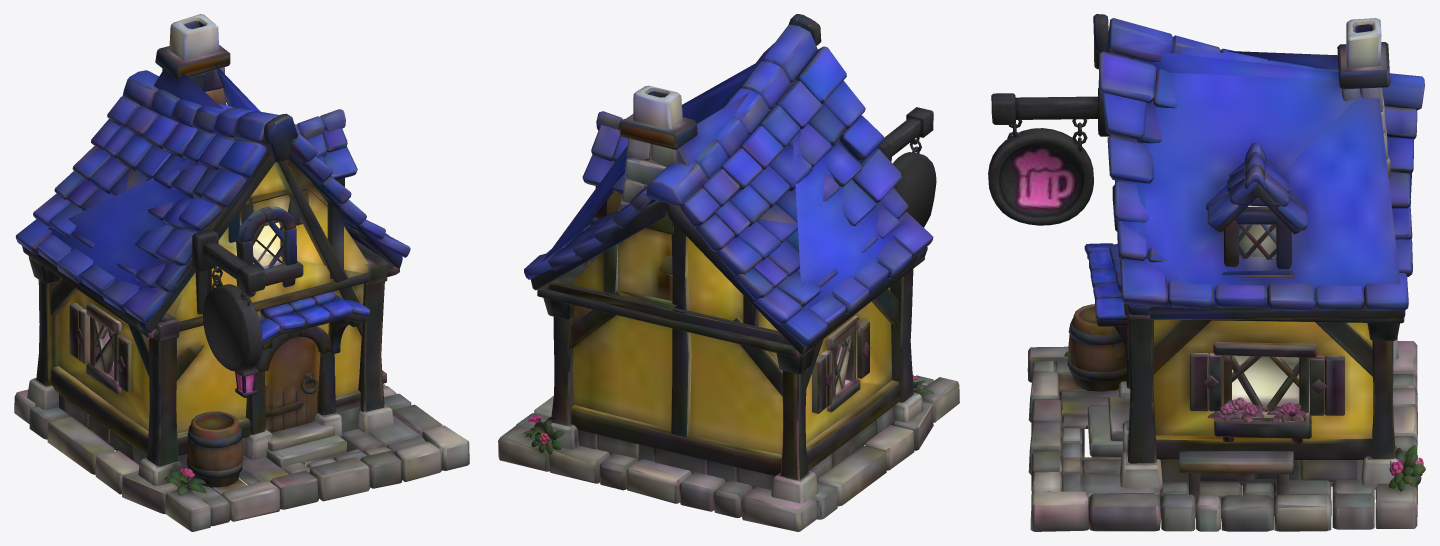
The model's file is tavern_seg.preview-v2.glb.
3 renders of one model, left to right at view 1: azimuth 30°, elevation 25°; view 2: azimuth 150°, elevation 25°; view 3: azimuth 270°, elevation 25°, orthographic. The views are drawn at different scales.
Parts seen in each view (by area): view 1: tripo_part_1, tripo_part_0, tripo_part_2, tripo_part_3; view 2: tripo_part_1, tripo_part_0, tripo_part_3, tripo_part_2; view 3: tripo_part_0, tripo_part_1, tripo_part_3, tripo_part_2.
Part boxes in pixels (<box>): tripo_part_1: <box>14,64,469,531</box>; tripo_part_0: <box>15,14,410,336</box>; tripo_part_2: <box>164,291,370,495</box>; tripo_part_3: <box>192,229,265,371</box>; tripo_part_1: <box>498,60,959,531</box>; tripo_part_0: <box>524,14,933,354</box>; tripo_part_3: <box>876,107,936,227</box>; tripo_part_2: <box>523,376,933,453</box>; tripo_part_0: <box>1093,14,1424,318</box>; tripo_part_1: <box>1027,50,1417,531</box>; tripo_part_3: <box>988,88,1109,225</box>; tripo_part_2: <box>1060,243,1425,491</box>.
Bounding box in the file's own units: 0.8374 × 0.9995 × 0.9155.
4 materials, 4 textured.
